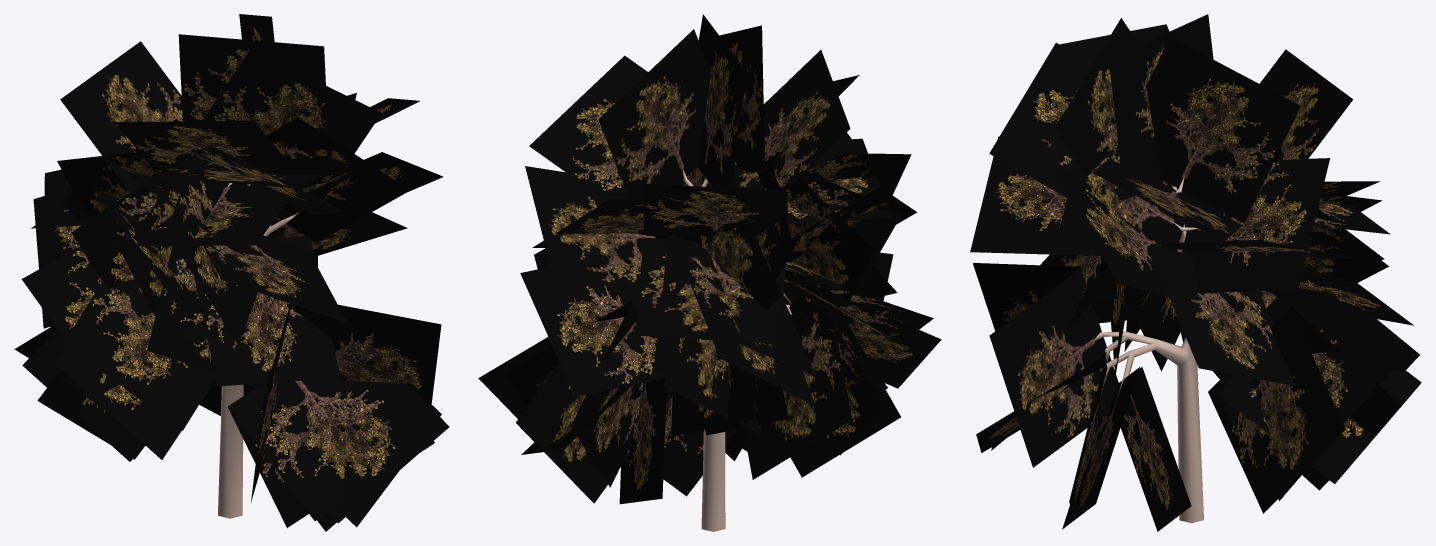
File: tree28.glb
3 views of the same model, side by side, from view 1: azimuth 30°, elevation 25°; view 2: azimuth 150°, elevation 25°; view 3: azimuth 270°, elevation 25° (orthographic). The views are drawn at different scales.
Bounding box in the file's own units: 6 × 7.36 × 6.08.
2 materials, 1 textured.
